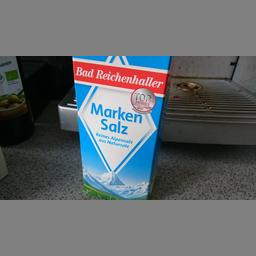spices: (71, 55, 170, 198)
